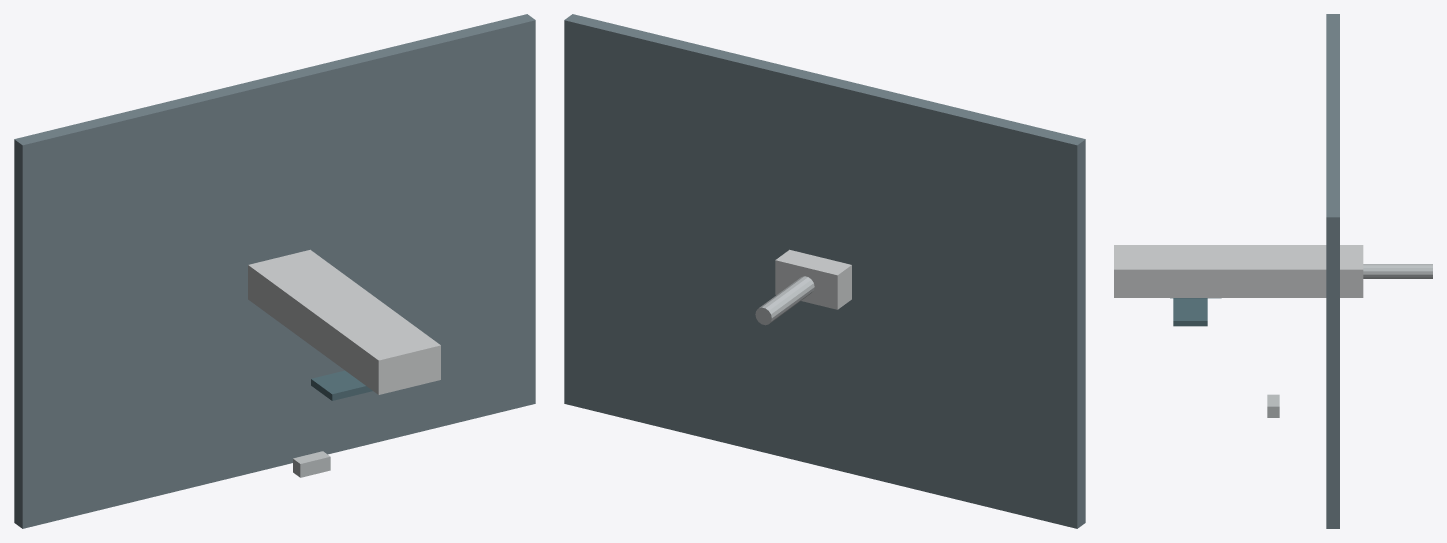
File: thermometer-medium.glb
3 renders of one model, left to right at view 1: azimuth 30°, elevation 25°; view 2: azimuth 150°, elevation 25°; view 3: azimuth 270°, elevation 25°, orthographic. The views are drawn at different scales.
Parts seen in each view (by area): view 1: presentation_base_detail, thermometer_body, display_bezel_detail, button; view 2: presentation_base_detail, thermometer_body, sensor_tip; view 3: thermometer_body, presentation_base_detail, sensor_tip, display_bezel_detail.
Part boxes in pixels (box(x1,y1,x2,y2)): presentation_base_detail: box(14, 14, 535, 528); thermometer_body: box(248, 249, 440, 394); display_bezel_detail: box(311, 370, 372, 400); button: box(293, 451, 330, 477); presentation_base_detail: box(564, 14, 1085, 528); thermometer_body: box(775, 249, 851, 309); sensor_tip: box(755, 276, 814, 325); thermometer_body: box(1114, 245, 1363, 297); presentation_base_detail: box(1326, 14, 1339, 528); sensor_tip: box(1363, 264, 1432, 278); display_bezel_detail: box(1173, 298, 1207, 326).
Size of the model in its own units: 2.8 by 2 by 1.86.
